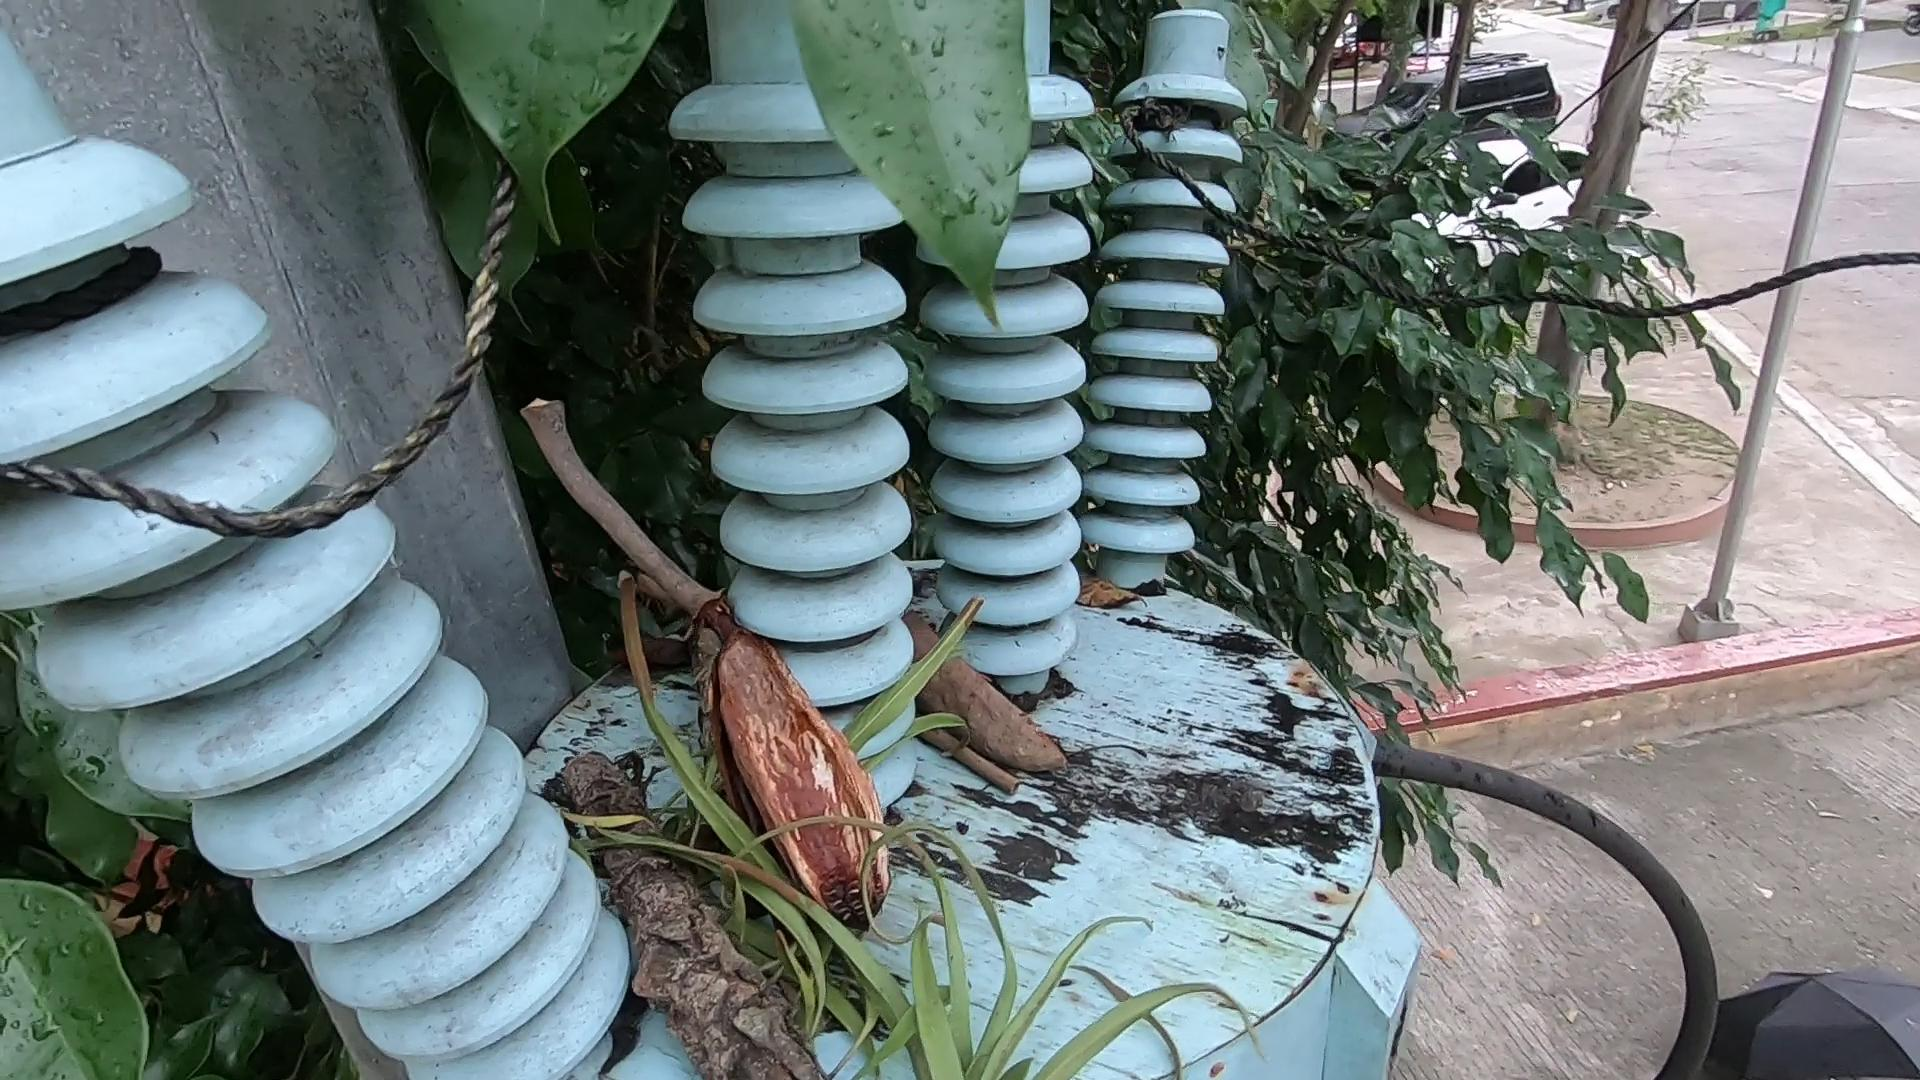branch with leaves: (522, 686, 1102, 1080)
leaf: (1076, 541, 1139, 630)
mahogany fruit: (695, 621, 881, 934), (893, 607, 1036, 798)
tree branch: (514, 369, 787, 698), (895, 686, 1035, 825)
